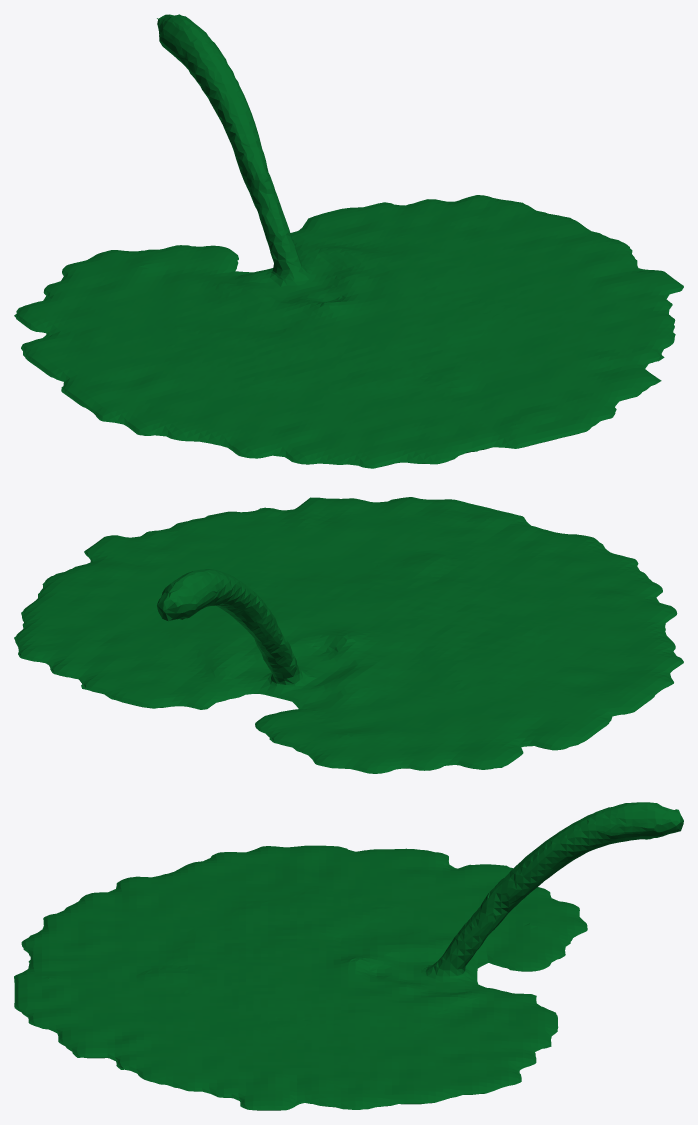
Rendered from fluid_29.fbx.
3 views of the same model, one above another, from view 1: azimuth 30°, elevation 25°; view 2: azimuth 150°, elevation 25°; view 3: azimuth 270°, elevation 25° (orthographic). The views are drawn at different scales.
Visible parts, largest first — view 1: Cube; view 2: Cube; view 3: Cube.
Boxes of the visible parts, x1=… form: Cube: x1=14, y1=14, x2=683, y2=468; Cube: x1=14, y1=497, x2=683, y2=773; Cube: x1=14, y1=802, x2=683, y2=1110.
Bounding box in the file's own units: 562 × 177 × 603.
